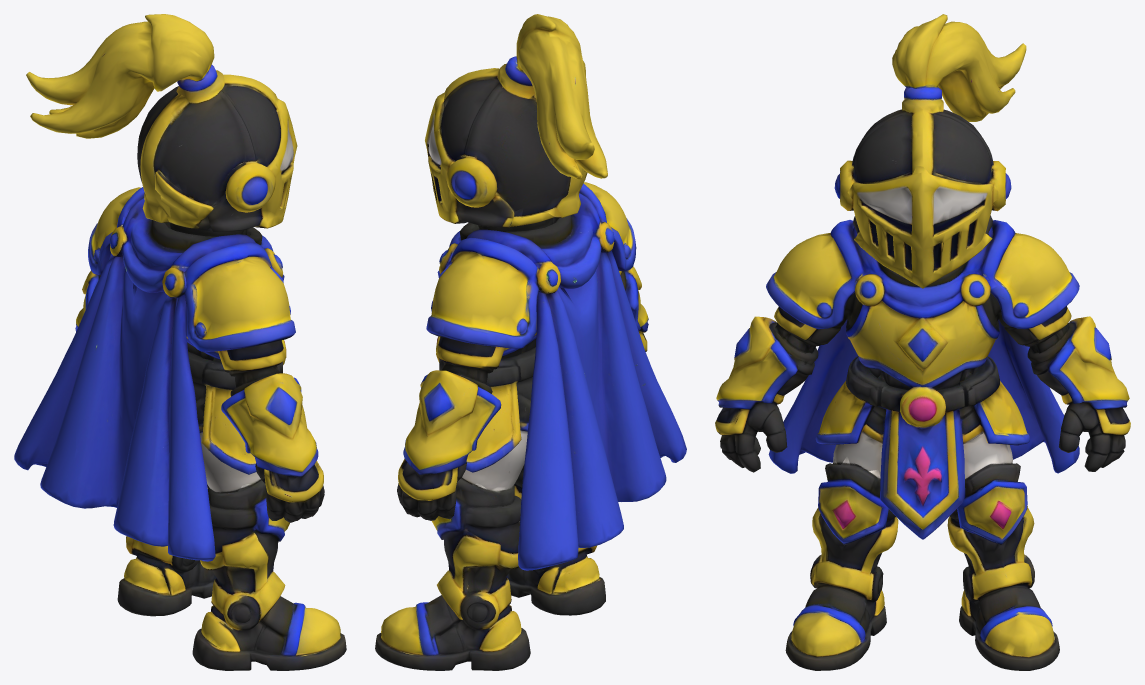
The model's file is knight_seg.glb.
3 views of the same model, side by side, from view 1: azimuth 30°, elevation 25°; view 2: azimuth 150°, elevation 25°; view 3: azimuth 270°, elevation 25° (orthographic). The views are drawn at different scales.
Visible parts, largest first — view 1: tripo_part_0, tripo_part_6, tripo_part_3, tripo_part_8, tripo_part_11, tripo_part_5, tripo_part_1, tripo_part_2, tripo_part_9, tripo_part_4, tripo_part_10, tripo_part_12; view 2: tripo_part_0, tripo_part_2, tripo_part_6, tripo_part_10, tripo_part_7, tripo_part_8, tripo_part_1, tripo_part_3, tripo_part_4, tripo_part_9, tripo_part_11, tripo_part_12 (+2 smaller); view 3: tripo_part_4, tripo_part_1, tripo_part_3, tripo_part_2, tripo_part_9, tripo_part_6, tripo_part_0, tripo_part_7, tripo_part_5, tripo_part_8, tripo_part_10, tripo_part_11 (+1 smaller).
Part boxes in pixels (left/top/right/bottom): tripo_part_0: left=14, top=253, right=215, bottom=561; tripo_part_6: left=137, top=64, right=281, bottom=236; tripo_part_3: left=192, top=480, right=346, bottom=670; tripo_part_8: left=26, top=14, right=214, bottom=138; tripo_part_11: left=184, top=242, right=295, bottom=371; tripo_part_5: left=221, top=373, right=324, bottom=522; tripo_part_1: left=121, top=198, right=284, bottom=387; tripo_part_2: left=117, top=484, right=216, bottom=616; tripo_part_9: left=144, top=95, right=297, bottom=232; tripo_part_4: left=188, top=340, right=286, bottom=474; tripo_part_10: left=88, top=187, right=144, bottom=275; tripo_part_12: left=200, top=433, right=261, bottom=493; tripo_part_0: left=518, top=222, right=686, bottom=570; tripo_part_2: left=375, top=478, right=530, bottom=670; tripo_part_6: left=438, top=56, right=586, bottom=231; tripo_part_10: left=426, top=238, right=538, bottom=368; tripo_part_7: left=397, top=370, right=501, bottom=520; tripo_part_8: left=516, top=14, right=607, bottom=179; tripo_part_1: left=437, top=193, right=605, bottom=384; tripo_part_3: left=506, top=465, right=605, bottom=615; tripo_part_4: left=436, top=336, right=535, bottom=472; tripo_part_9: left=425, top=89, right=587, bottom=227; tripo_part_11: left=579, top=182, right=636, bottom=275; tripo_part_12: left=461, top=429, right=527, bottom=492; tripo_part_4: left=815, top=356, right=1029, bottom=539; tripo_part_1: left=774, top=225, right=1070, bottom=390; tripo_part_3: left=785, top=456, right=898, bottom=670; tripo_part_2: left=947, top=463, right=1059, bottom=670; tripo_part_9: left=847, top=166, right=998, bottom=288; tripo_part_6: left=834, top=87, right=1011, bottom=211; tripo_part_0: left=768, top=319, right=1079, bottom=473; tripo_part_7: left=1027, top=316, right=1130, bottom=471; tripo_part_5: left=715, top=316, right=818, bottom=472; tripo_part_8: left=892, top=14, right=1026, bottom=121; tripo_part_10: left=977, top=220, right=1079, bottom=342; tripo_part_11: left=766, top=220, right=863, bottom=340.
Size of the model in its own units: 0.3784 by 1 by 0.6321.
15 materials, 15 textured.
